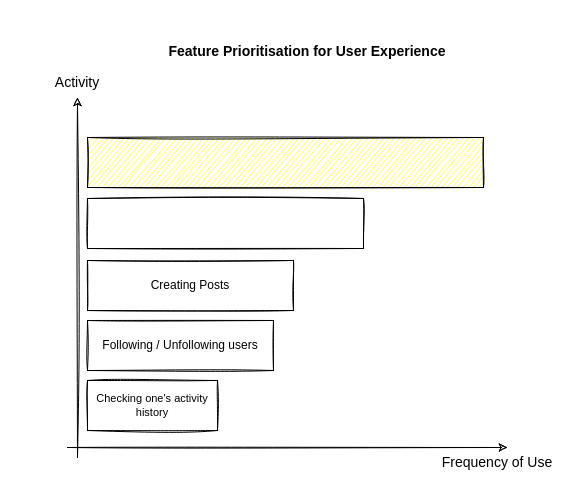
Image size: 574x494. Some labels were removed from this diagram. The box of each missing label's shape, as (x1, y1, x2, y2) in pixels:
Checking one's message feed: (86, 136, 484, 188)
Reacting to friends' posts (liking/sharing): (86, 198, 364, 248)
